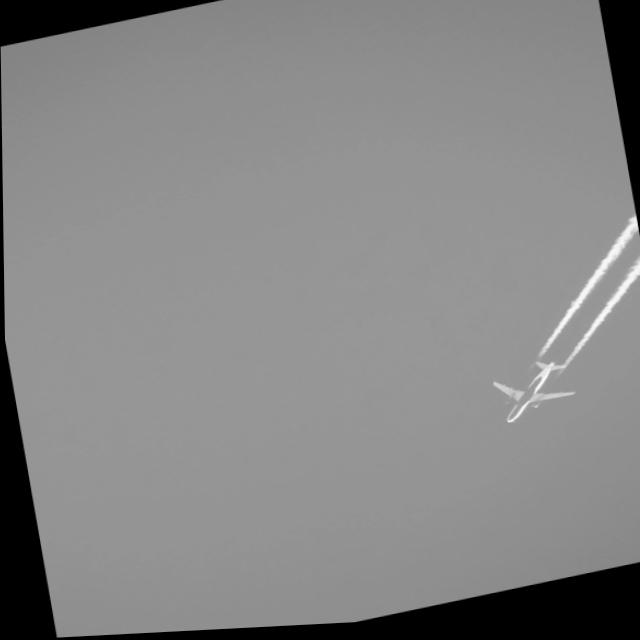aeroplane: (483, 359, 580, 437)
